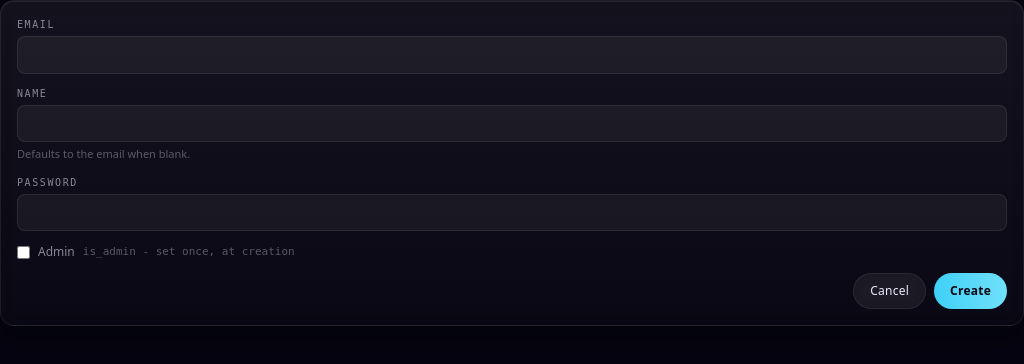
Test: rejects a blank email without submitting
In the password field labelled "Password": [512, 212] box [17, 194, 1007, 231], type "password1"
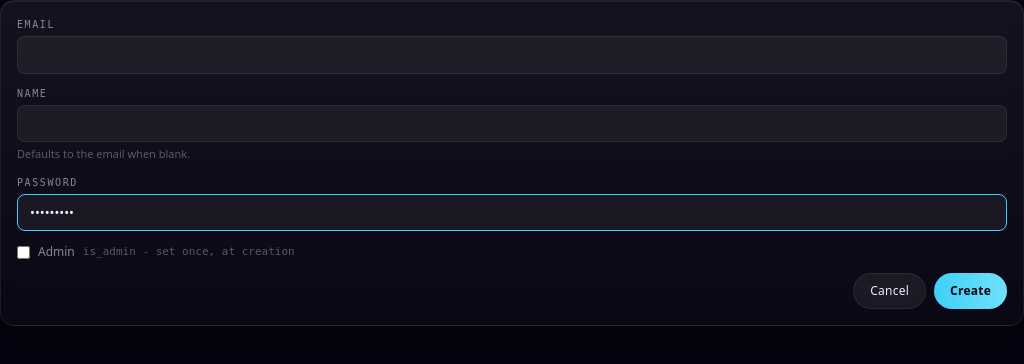
Click the button "Create": [971, 291] box [934, 273, 1007, 309]
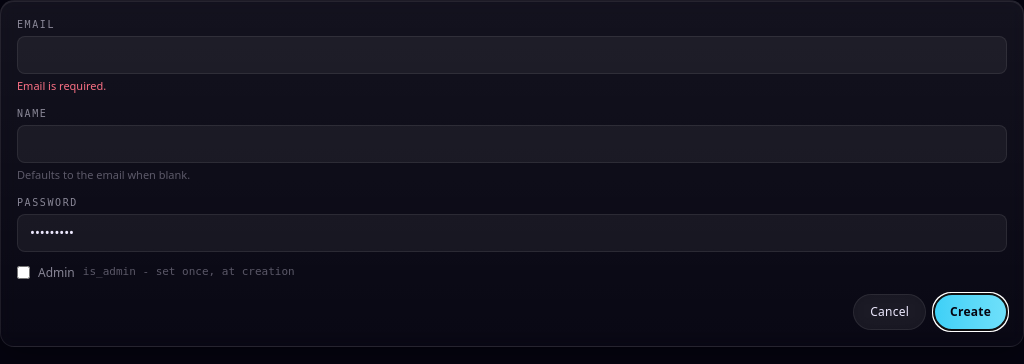
Expected: the text "Email is required." is shown, [17, 78, 106, 92]
